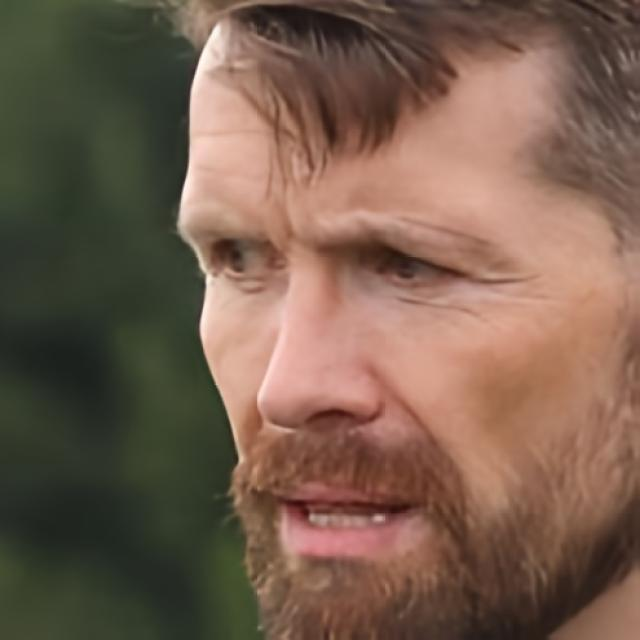anger: (176, 38, 622, 640)
